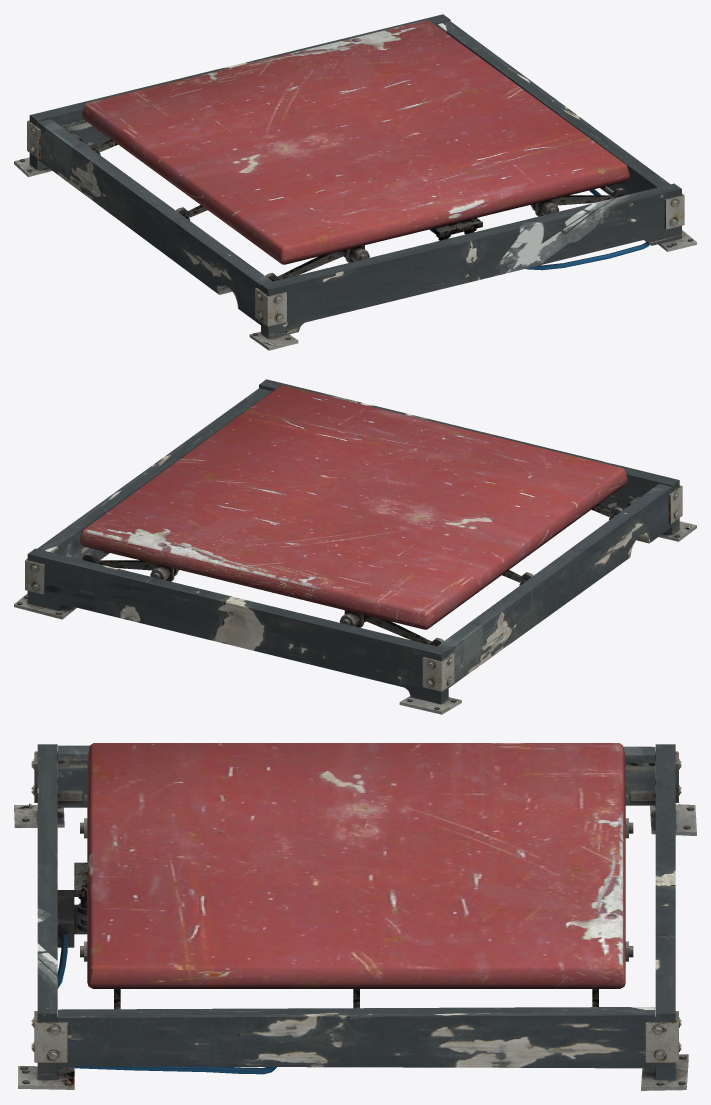
File: portal_2_old_aperture_button.glb
The picture shows the model from 3 angles, top to bottom: view 1: azimuth 30°, elevation 25°; view 2: azimuth 150°, elevation 25°; view 3: azimuth 270°, elevation 25°; orthographic projection. The views are drawn at different scales.
Visible parts, largest first — view 1: Object_2; view 2: Object_2; view 3: Object_2.
Boxes of the visible parts, x1,y1,x2,y2 form: Object_2: (14,14,696,350); Object_2: (14,379,696,714); Object_2: (14,743,696,1090).
Size of the model in its own units: 101 by 15.82 by 103.
Materials: 1 (1 with a texture image).
